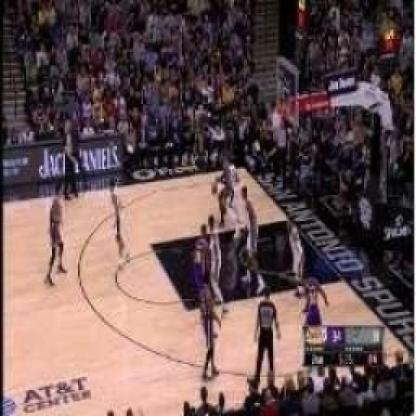basketball: (210, 183, 218, 194)
